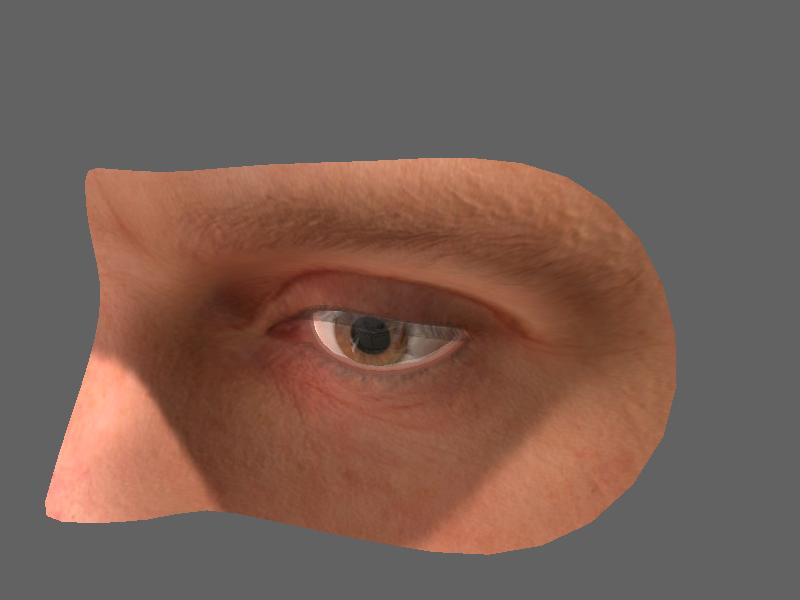iris: (324, 307, 417, 363)
